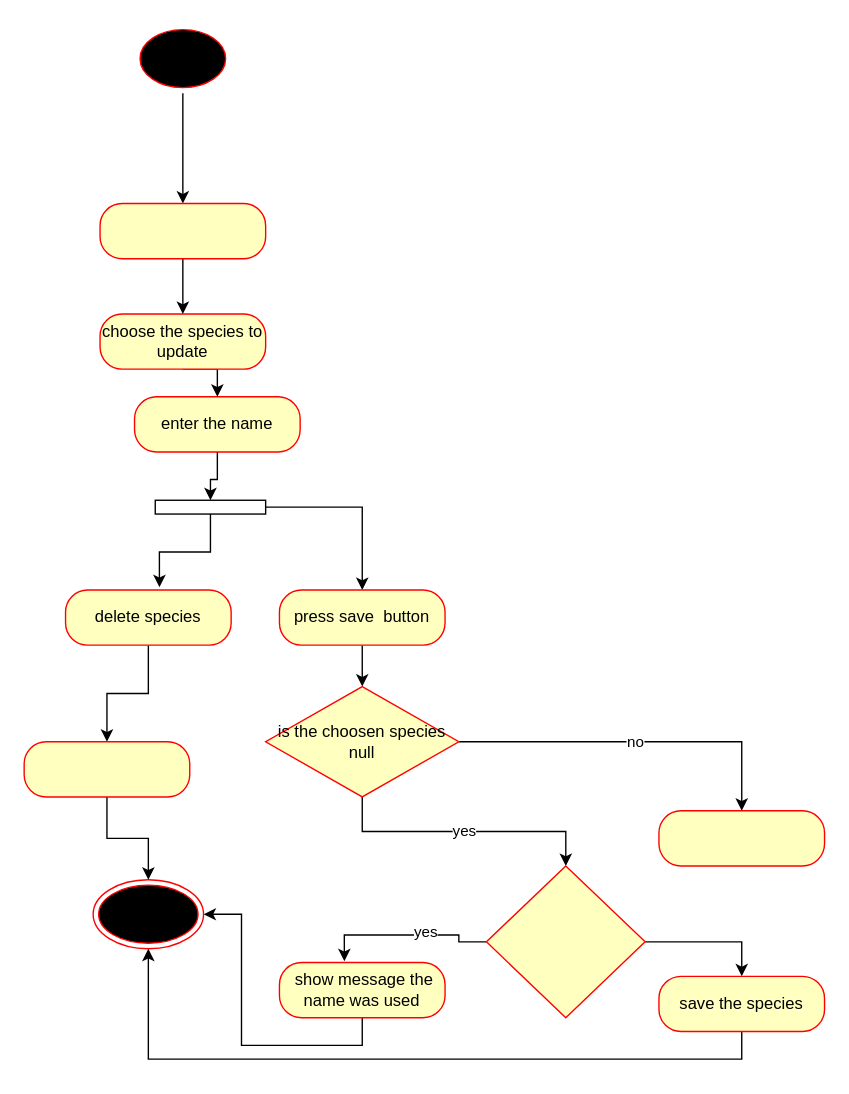
The diagram is 849 pixels wide and 1094 high, and some of its shapes have lost their labels. The shapes that lost their labels are listed below. From the top down, each one's box as (x1, y1, x2, y2) in pixels, then its label:
(99, 202, 266, 259): choose the platoon to update
(23, 740, 190, 797): show message the species deleted
(658, 809, 825, 866): show message the species update
(485, 865, 645, 1018): is the name was used
